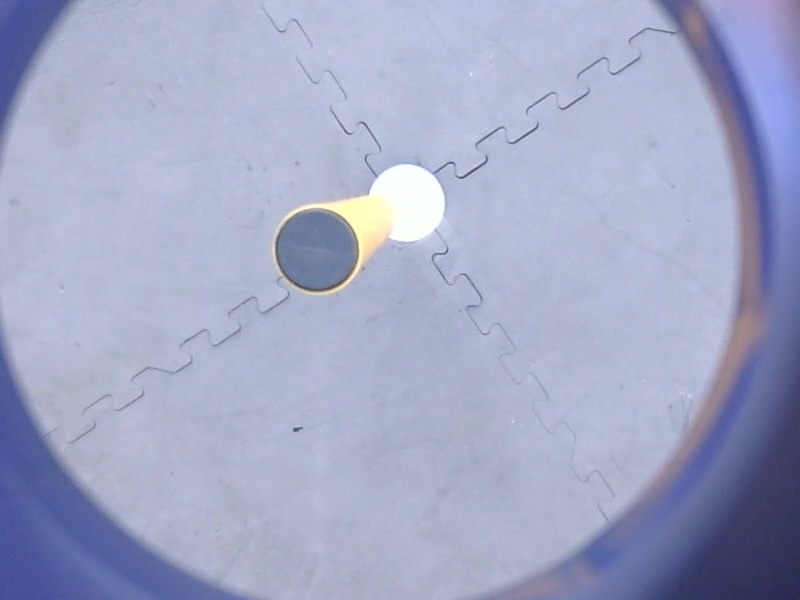tip: (264, 198, 368, 304)
